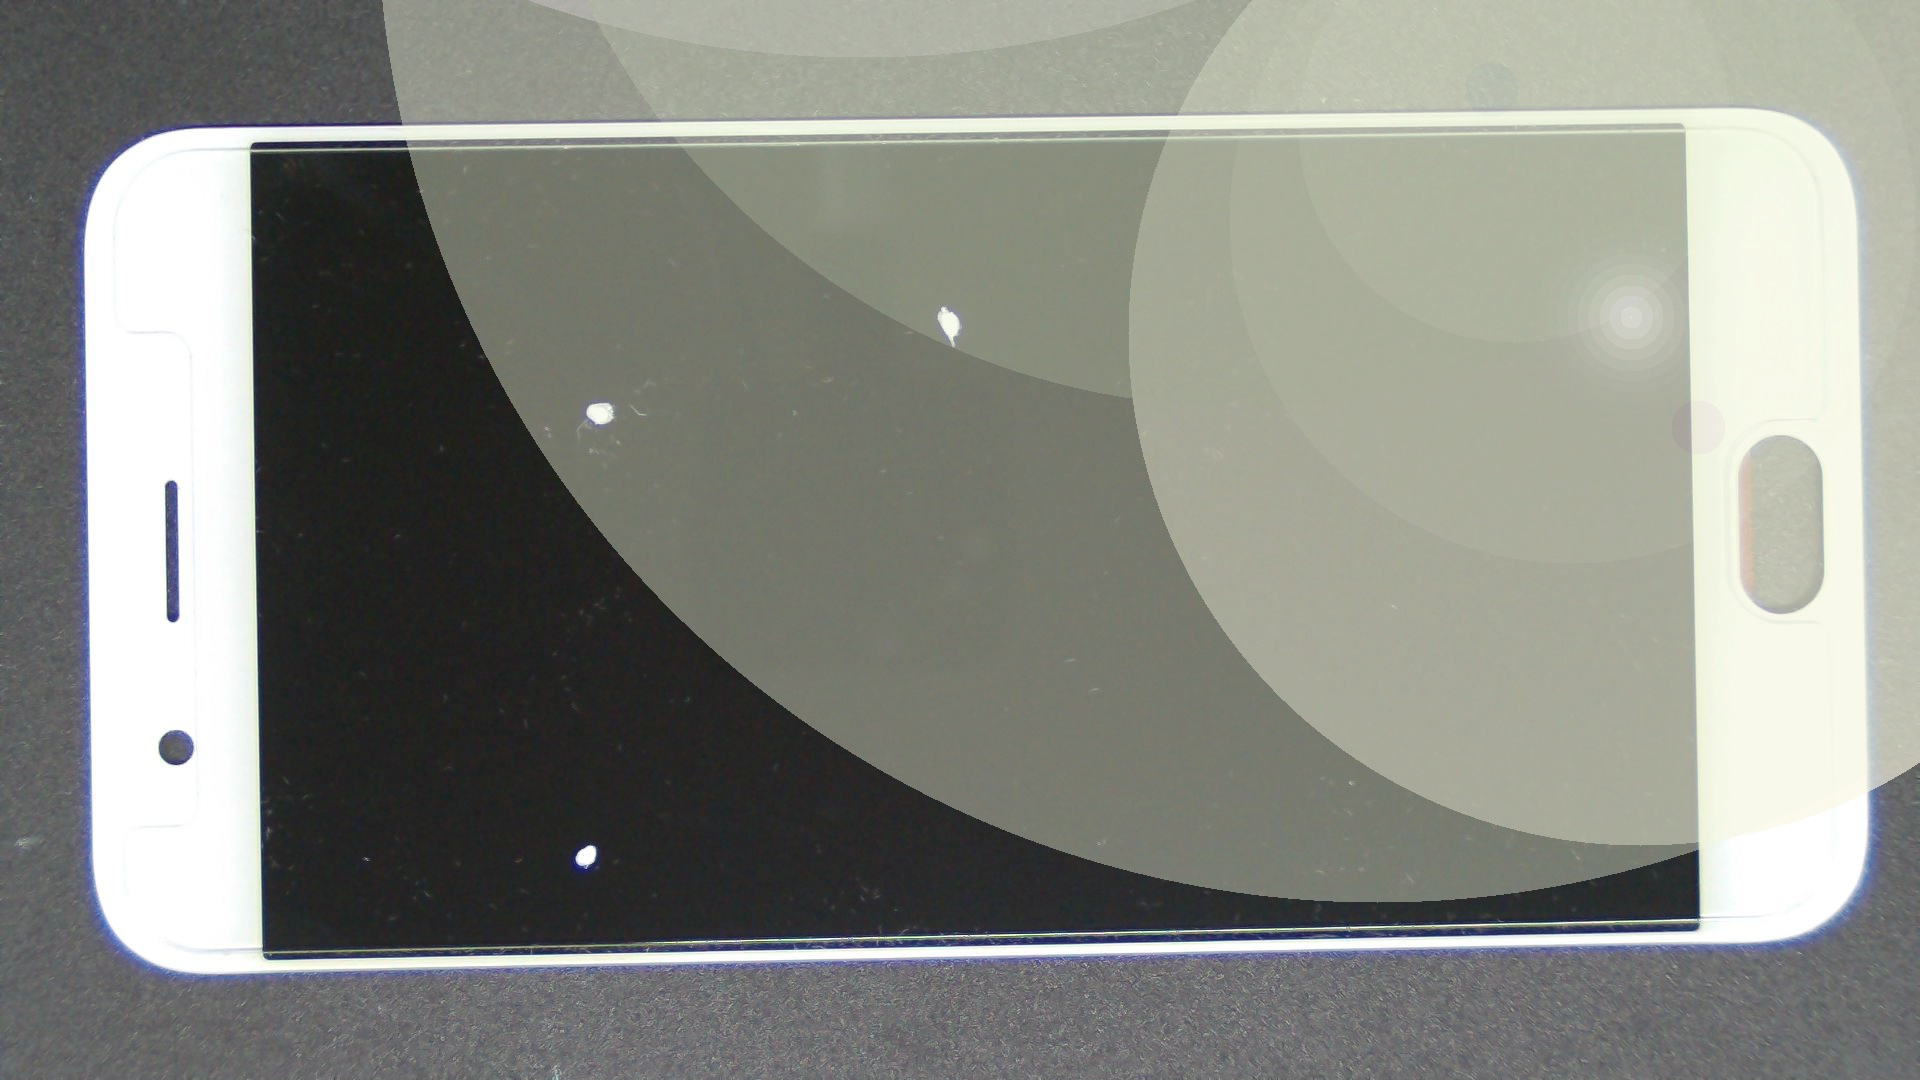oil: (295, 421, 884, 1080), (473, 152, 1419, 456), (297, 200, 889, 603)
